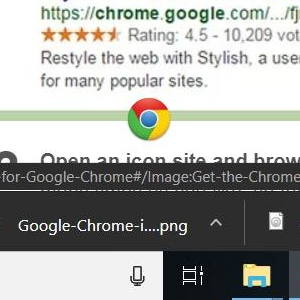chrome: (127, 97, 171, 142)
